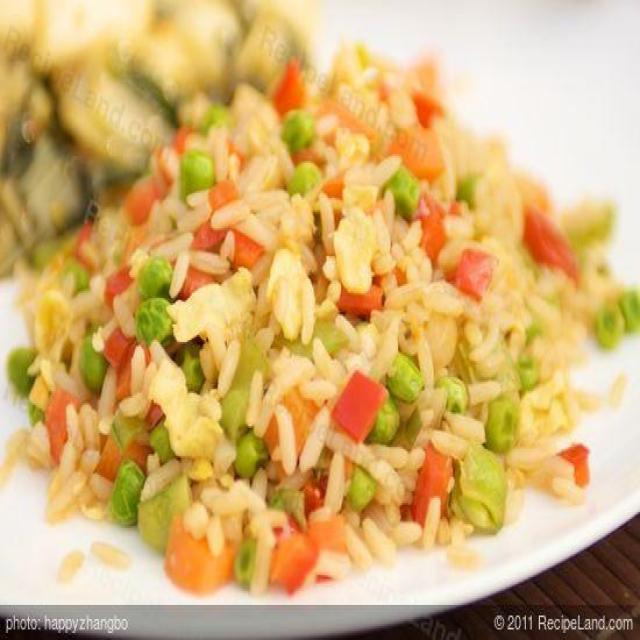Nasi Goreng: (5, 35, 633, 596)
